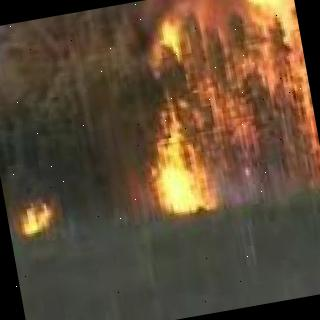fire: (123, 0, 320, 217), (18, 202, 54, 235)
